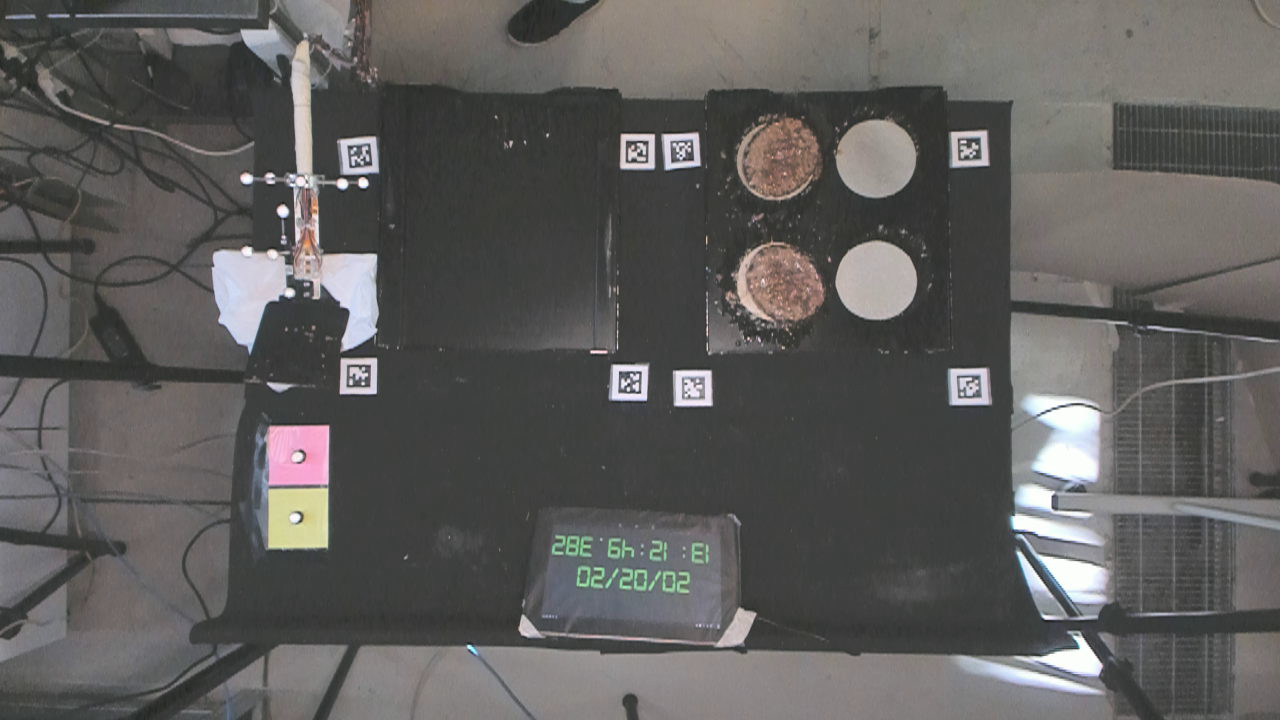hamburger: (749, 241, 822, 324), (743, 119, 819, 198)
marker: (266, 424, 332, 486)
